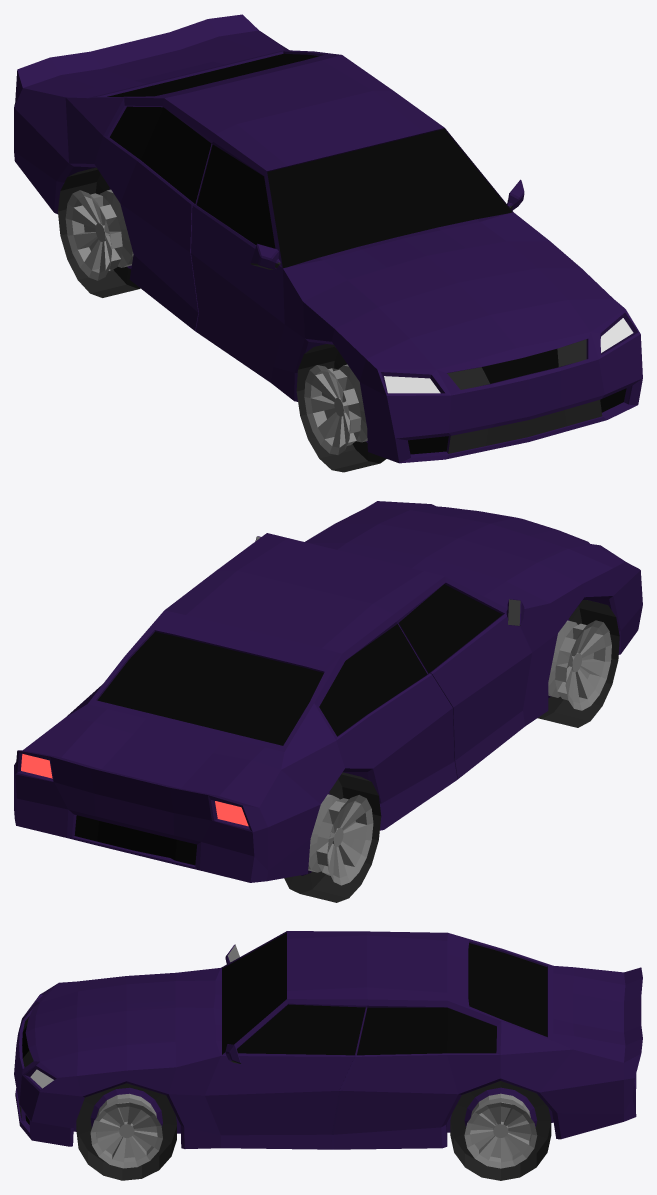
File: car2.fbx
The picture shows the model from 3 angles, top to bottom: view 1: azimuth 30°, elevation 25°; view 2: azimuth 150°, elevation 25°; view 3: azimuth 270°, elevation 25°; orthographic projection. The views are drawn at different scales.
Parts seen in each view (by area): view 1: Cube; view 2: Cube; view 3: Cube.
Boxes of the visible parts, x1,y1,x2,y2 form: Cube: (14,14,642,472); Cube: (14,501,642,902); Cube: (14,931,642,1180).
Bounding box in the file's own units: 97.79 × 75.05 × 252.
